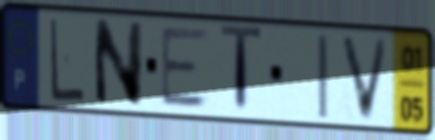E: (159, 26, 212, 111)
I: (314, 31, 331, 122)
L: (47, 15, 87, 104)
N: (91, 16, 146, 110)
T: (218, 22, 265, 120)
V: (337, 32, 393, 125)
